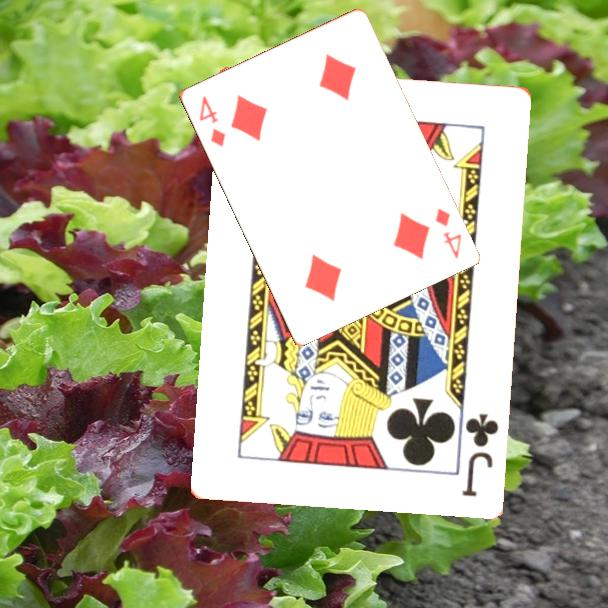c11: (458, 409, 501, 499)
d04: (195, 92, 228, 150), (431, 204, 464, 262)
